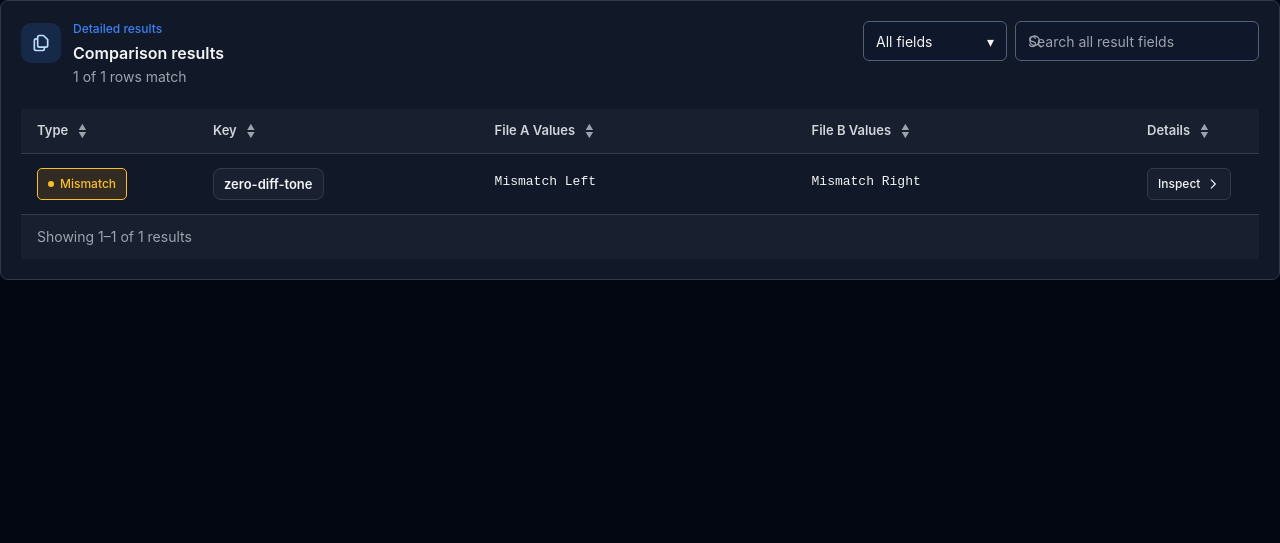
Test: keeps split file labels for mismatched inspection rows
Click the button "Inspect": (1189, 184) [1147,168,1231,200]
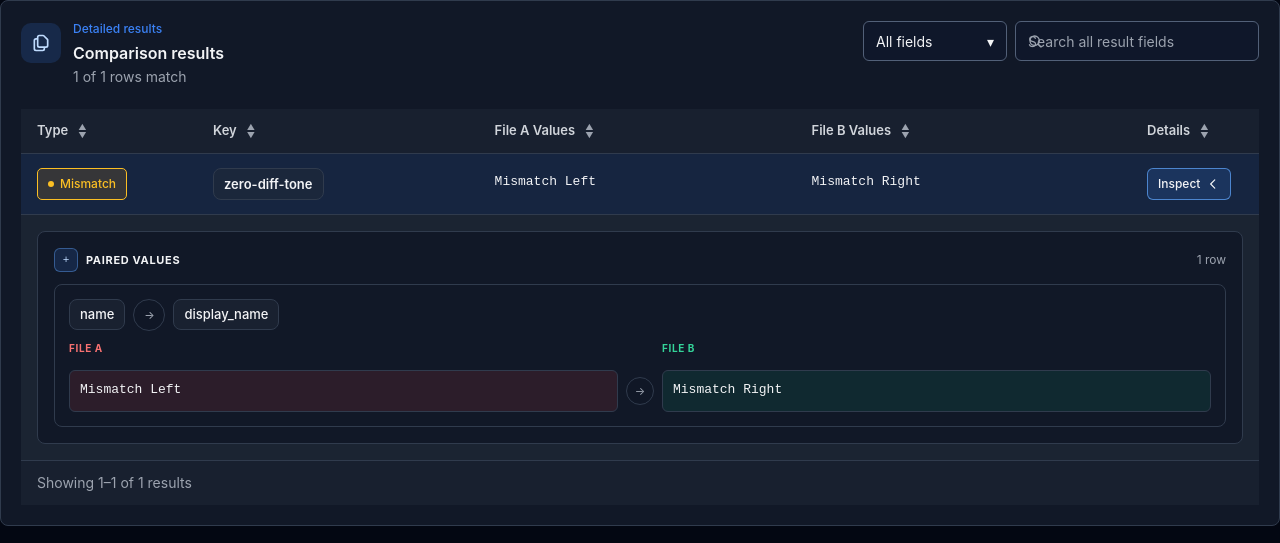
Result: the text titled "Mismatch Left" below "display_name" is shown at [69,370,618,412]
Result: the 2nd text titled "Mismatch Right" is shown at [662,370,1211,412]
